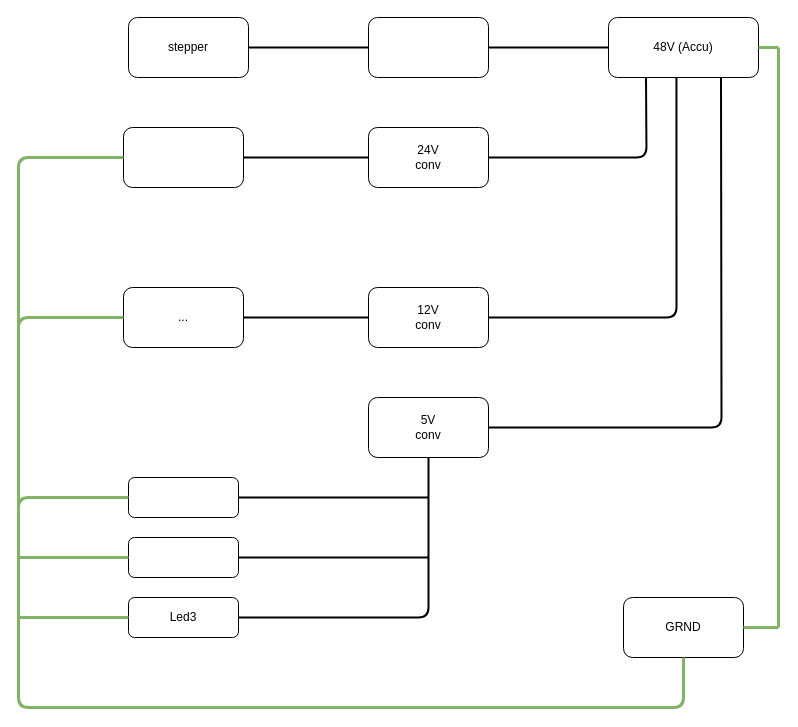
Image size: 798x727. Some labels were removed from this diagram. The shapes that lost their labels are listed below. From the top down, each one's centre as x and y in pixels, then its label:
(x=428, y=47): El 7047 48VterminalOUT
(x=183, y=157): PLC cx9020
(x=183, y=497): Led1
(x=183, y=557): Led2
